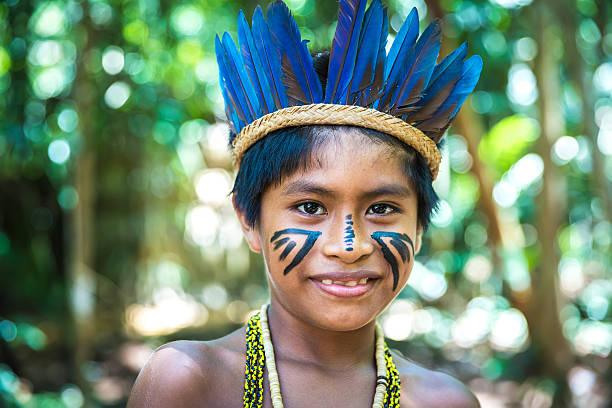Human: (160, 19, 486, 408)
